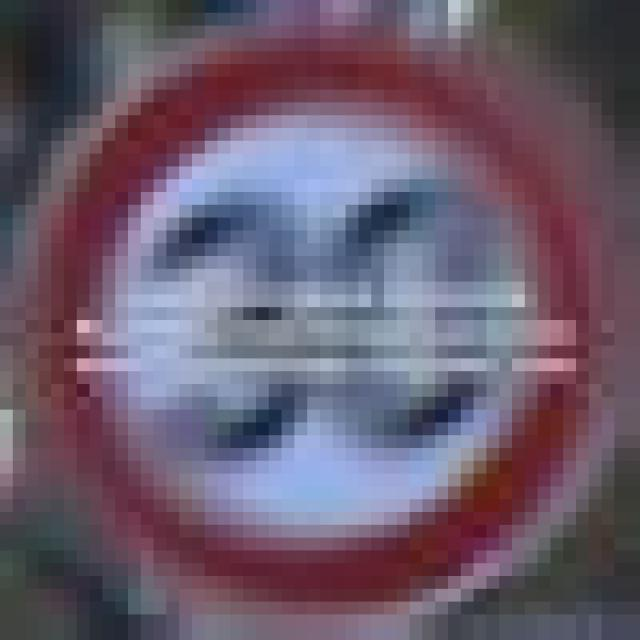SPEED_LIMIT_30: (13, 12, 614, 602)
